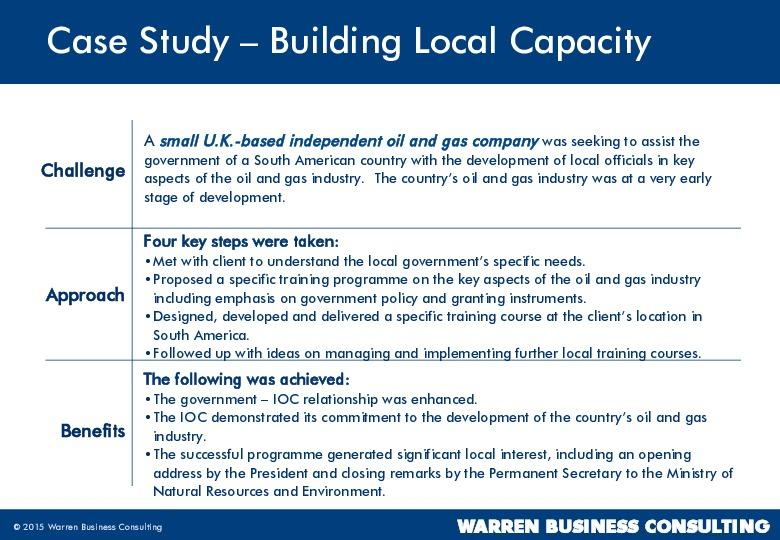paragraph: (21, 97, 745, 502)
subtitle: (38, 278, 130, 320), (30, 150, 129, 187), (53, 409, 128, 447)
title: (43, 11, 659, 73)
